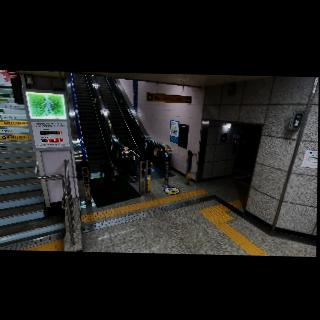anomaly: (96, 160, 117, 185)
